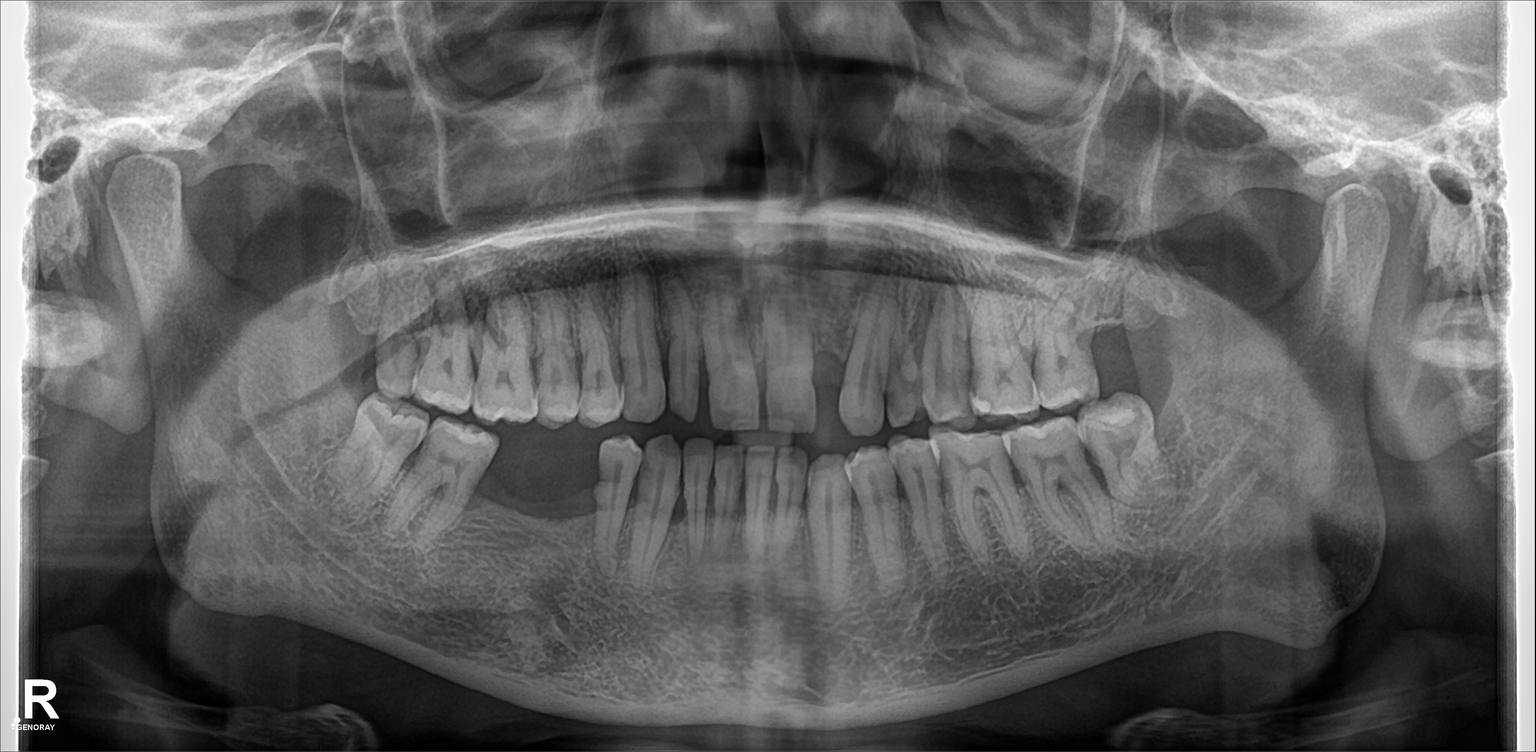Missing Tooth: (495, 445, 542, 538), (1088, 307, 1143, 377), (546, 454, 590, 538), (808, 324, 843, 420), (339, 298, 371, 378)
